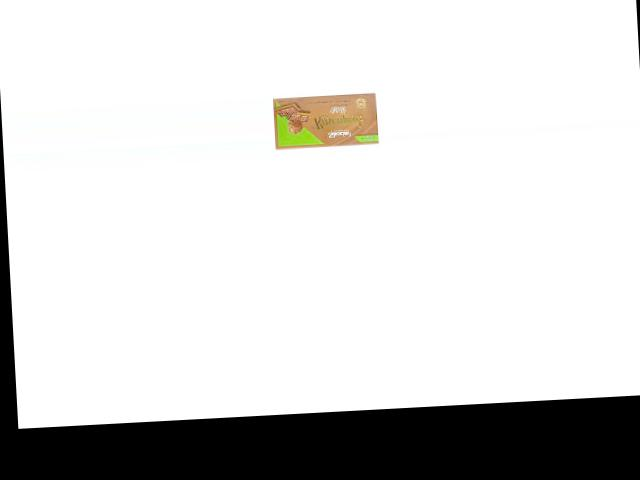chocolate: (271, 90, 382, 153)
